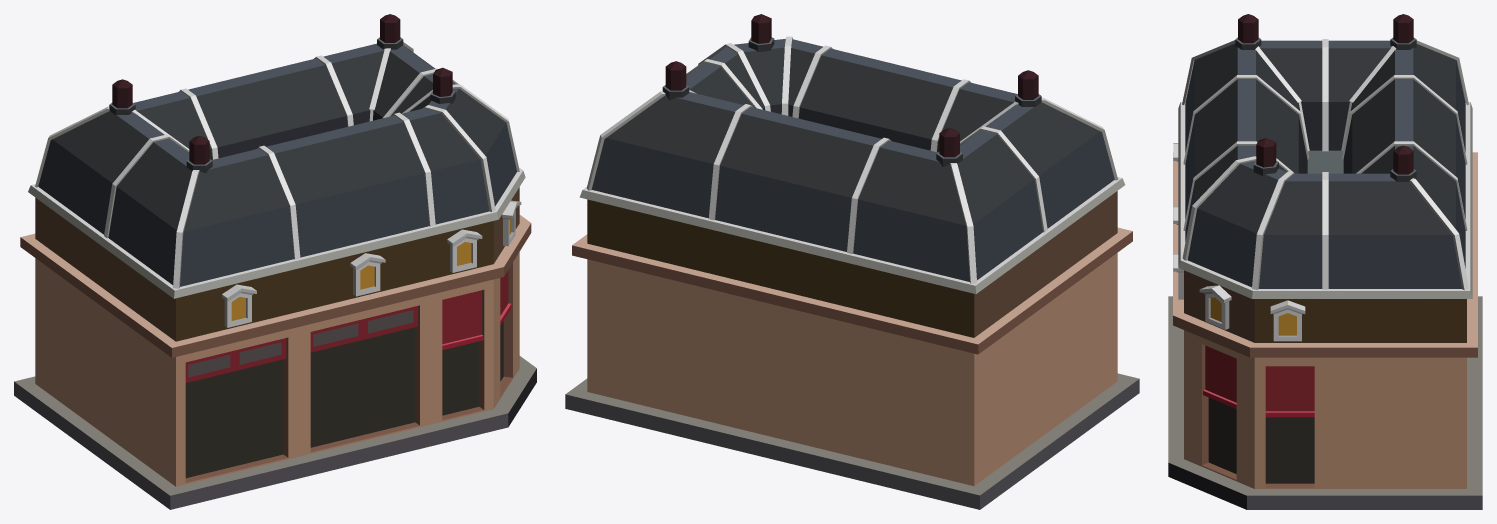
File: TB_CITY_Uniq_FireStation.FBX
3 views of the same model, side by side, from view 1: azimuth 30°, elevation 25°; view 2: azimuth 150°, elevation 25°; view 3: azimuth 270°, elevation 25° (orthographic). The views are drawn at different scales.
Parts seen in each view (by area): view 1: TB_CITY_Uniq_FireStation; view 2: TB_CITY_Uniq_FireStation; view 3: TB_CITY_Uniq_FireStation.
Part boxes in pixels (box(x1,y1,x2,y2)): TB_CITY_Uniq_FireStation: box(14, 14, 536, 509); TB_CITY_Uniq_FireStation: box(565, 14, 1139, 509); TB_CITY_Uniq_FireStation: box(1168, 14, 1482, 509).
Bounding box in the file's own units: 23.97 × 18.53 × 15.98.
